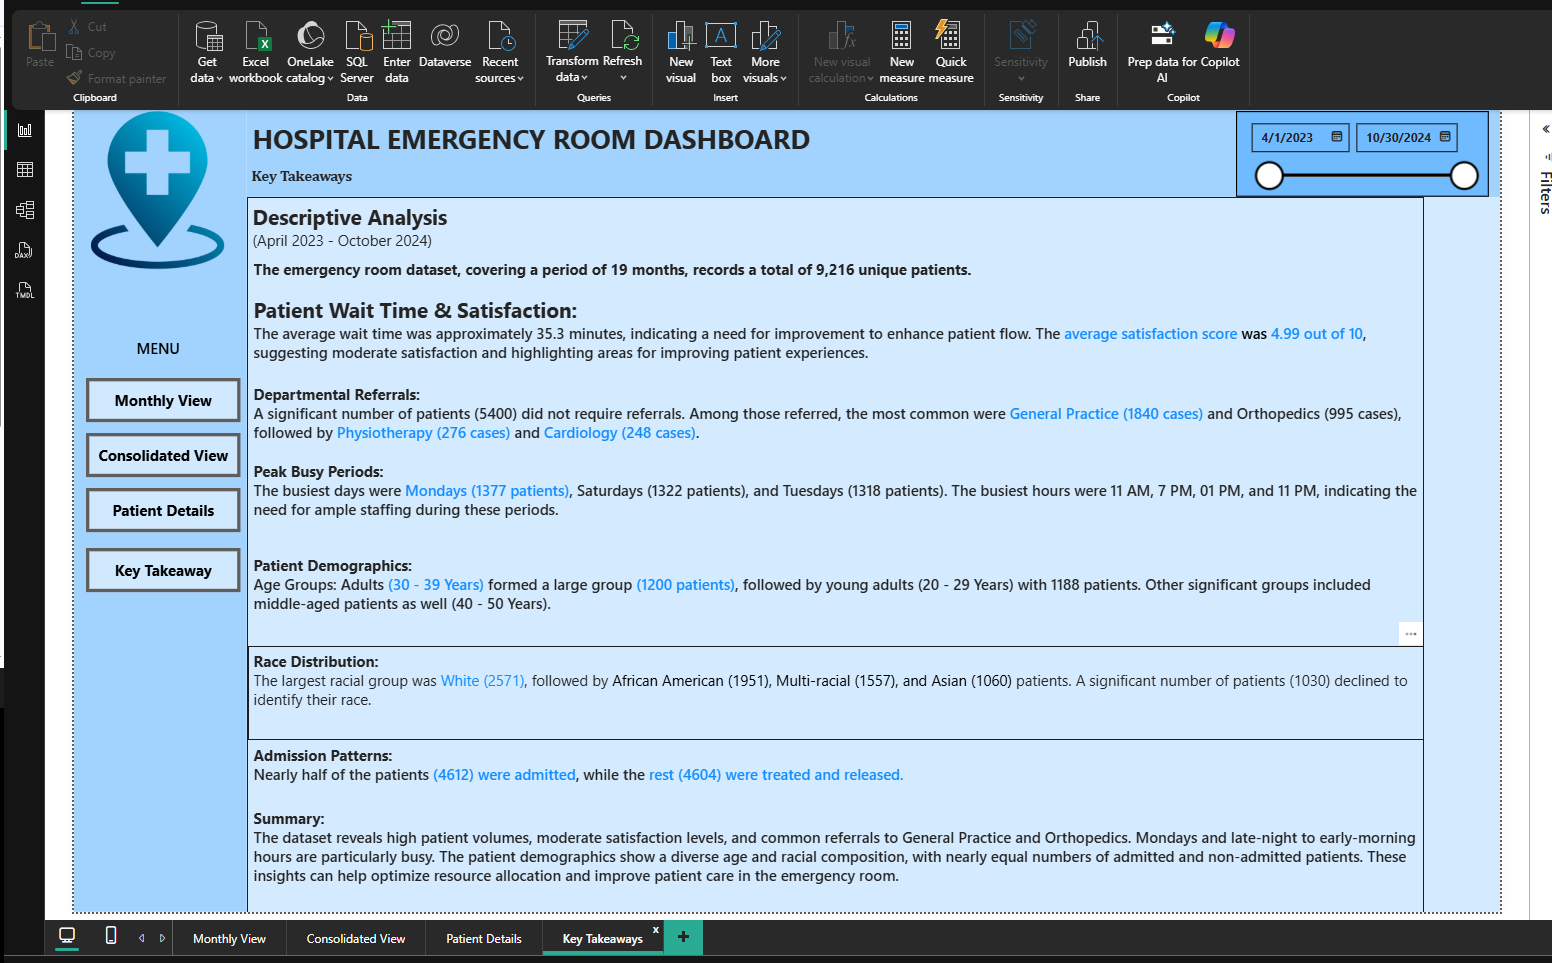

What the dashboard file says about the page in this screenshot:
{"tool":"powerbi","page":{"name":"Key Takeaways","canvas":[1280,720],"ordinal":3},"visuals":[{"type":"shape","box":[0,0,155,719.8],"z":0},{"type":"actionButton","title":"Monthly View","box":[10.5,241.3,138.7,39.6],"z":0,"group":"g1"},{"type":"shape","box":[155,0,1125,78],"z":1000},{"type":"actionButton","title":"Monthly View","box":[10.5,290.3,138.7,39.6],"z":1000,"group":"g1"},{"type":"textbox","box":[155.3,3.6,590.7,47.6],"z":2000},{"type":"actionButton","title":"Monthly View","box":[10.5,340.4,138.7,39.6],"z":2000,"group":"g1"},{"type":"textbox","box":[154.7,44.5,147.6,33.4],"z":3000},{"type":"actionButton","title":"Monthly View","box":[10.5,394,138.7,39.6],"z":3000,"group":"g1"},{"type":"slicer","fields":{"Values":["Date Table.Date"]},"box":[1043.4,0.9,226.6,77.1],"z":4000},{"type":"image","box":[0,0.9,149.6,142.3],"z":5000},{"type":"textbox","box":[51.3,200.5,64.1,30.3],"z":5010,"group":"g2"},{"type":"group","id":"g1","title":"Group 1","box":[10.5,241.3,138.7,192.3],"z":5015,"group":"g2"},{"type":"textbox","box":[155,78,320.3,52.5],"z":6000,"group":"g3"},{"type":"group","id":"g2","title":"Group 2","box":[10.5,200.5,138.7,233.2],"z":6000},{"type":"group","id":"g3","title":"Group 3","box":[155,78,1057,642.7],"z":7000},{"type":"textbox","box":[155.7,129.3,716.9,31.9],"z":7000,"group":"g3"},{"type":"textbox","box":[155.7,161.1,1022.4,80.2],"z":8000,"group":"g3"},{"type":"textbox","box":[155.7,241.4,1056.3,68.9],"z":9000,"group":"g3"},{"type":"textbox","box":[155.7,310.3,1056.3,84.3],"z":10000,"group":"g3"},{"type":"textbox","box":[155.7,394.6,1056.3,86.4],"z":11000,"group":"g3"},{"type":"textbox","box":[155.7,481,1056.3,84.3],"z":12000,"group":"g3"},{"type":"textbox","box":[155.7,565.4,1056.3,56.6],"z":13000,"group":"g3"},{"type":"textbox","box":[155.7,622,1056.3,98.7],"z":14000,"group":"g3"}]}

Visuals, with their boxes on the page's 1280x720 design canvas (x1, y1, x2, y2). These are canvas units, not pixel positions in the 1552x963 screenshot, which may show the page scaled, cropped or inside an application window:
shape: (x1=0, y1=0, x2=155, y2=720)
"Monthly View" actionButton: (x1=10, y1=241, x2=149, y2=281)
shape: (x1=155, y1=0, x2=1280, y2=78)
"Monthly View" actionButton: (x1=10, y1=290, x2=149, y2=330)
textbox: (x1=155, y1=4, x2=746, y2=51)
"Monthly View" actionButton: (x1=10, y1=340, x2=149, y2=380)
textbox: (x1=155, y1=44, x2=302, y2=78)
"Monthly View" actionButton: (x1=10, y1=394, x2=149, y2=434)
slicer - Date Table.Date: (x1=1043, y1=1, x2=1270, y2=78)
image: (x1=0, y1=1, x2=150, y2=143)
textbox: (x1=51, y1=200, x2=115, y2=231)
"Group 1" group: (x1=10, y1=241, x2=149, y2=434)
textbox: (x1=155, y1=78, x2=475, y2=130)
"Group 2" group: (x1=10, y1=200, x2=149, y2=434)
"Group 3" group: (x1=155, y1=78, x2=1212, y2=721)
textbox: (x1=156, y1=129, x2=873, y2=161)
textbox: (x1=156, y1=161, x2=1178, y2=241)
textbox: (x1=156, y1=241, x2=1212, y2=310)
textbox: (x1=156, y1=310, x2=1212, y2=395)
textbox: (x1=156, y1=395, x2=1212, y2=481)
textbox: (x1=156, y1=481, x2=1212, y2=565)
textbox: (x1=156, y1=565, x2=1212, y2=622)
textbox: (x1=156, y1=622, x2=1212, y2=721)
